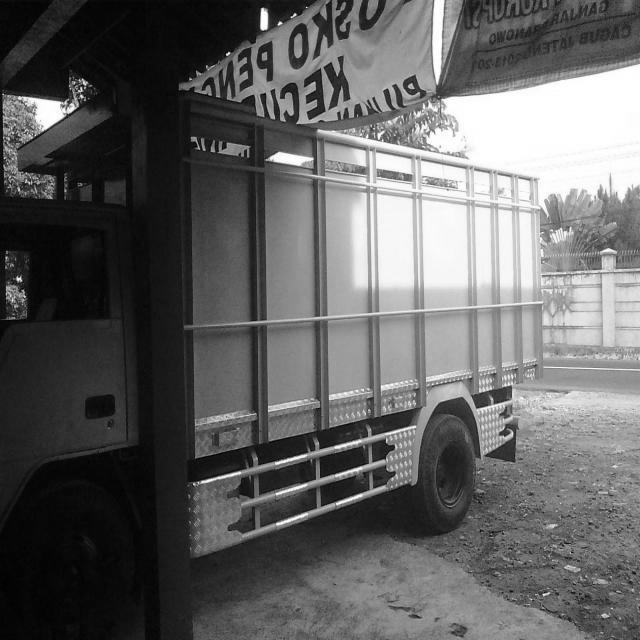truck: (1, 82, 545, 640)
